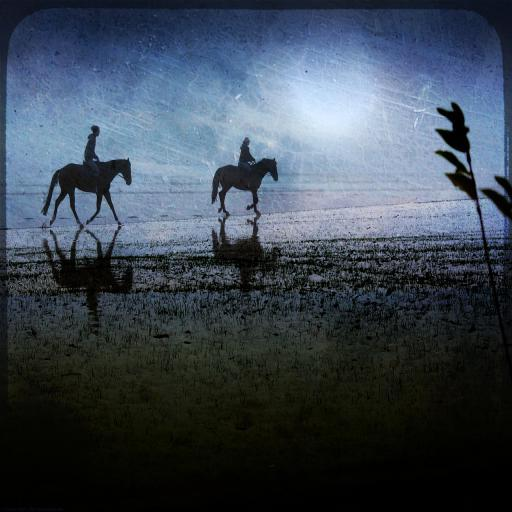Horse: (41, 156, 133, 227), (209, 156, 279, 217)
